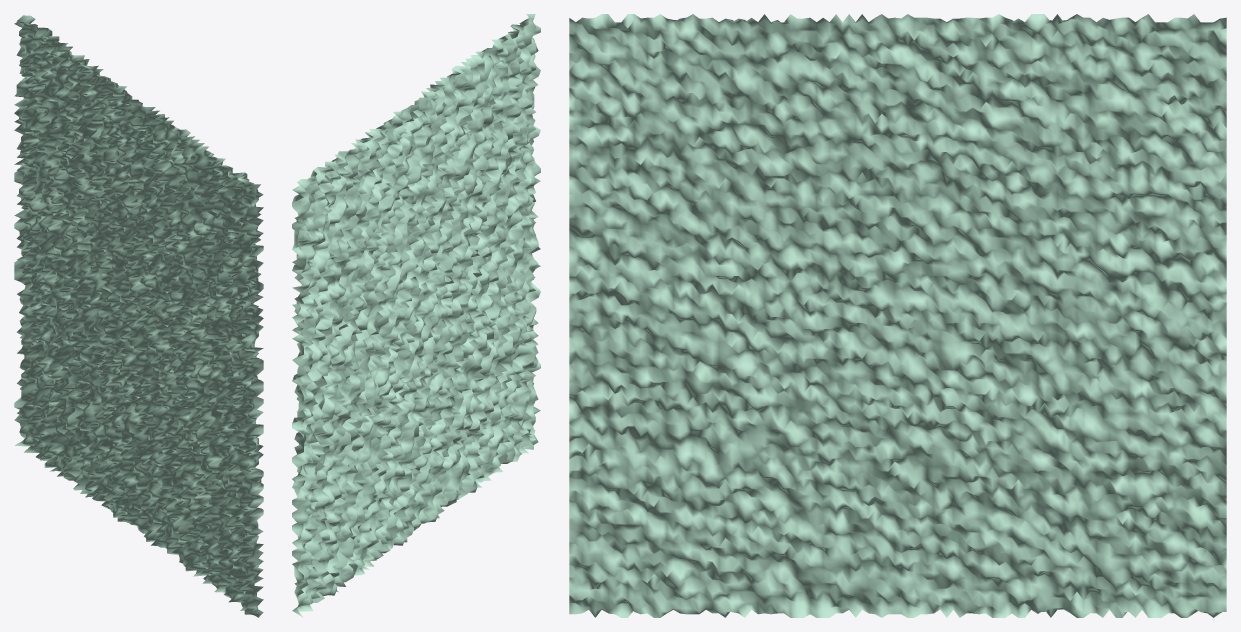
The model's file is HeavyPlane.fbx.
3 renders of one model, left to right at view 1: azimuth 30°, elevation 25°; view 2: azimuth 150°, elevation 25°; view 3: azimuth 270°, elevation 25°, orthographic. The views are drawn at different scales.
Parts seen in each view (by area): view 1: 20.4 mil tris; view 2: 20.4 mil tris; view 3: 20.4 mil tris.
Part boxes in pixels (bbox=[...]): 20.4 mil tris: bbox=[14, 15, 263, 617]; 20.4 mil tris: bbox=[292, 14, 540, 617]; 20.4 mil tris: bbox=[569, 14, 1226, 617].
Bounding box in the file's own units: 5.91 × 200 × 200.
